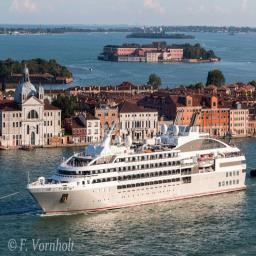cruises: (25, 109, 249, 221)
